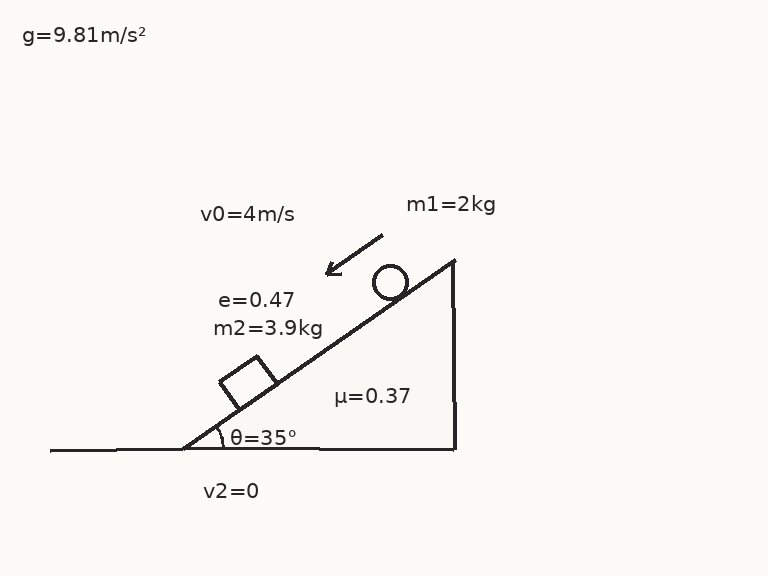ball: (370, 262, 410, 302)
block: (217, 354, 279, 412)
ramp: (181, 258, 455, 451)
